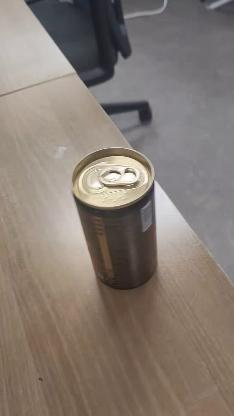Can: (70, 144, 160, 298)
